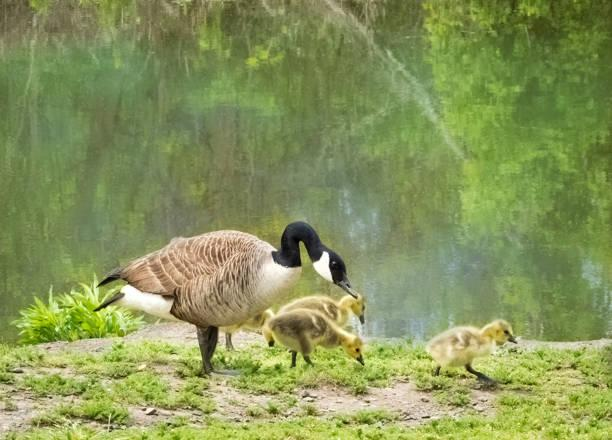Canadian-Goose: (98, 220, 354, 372), (422, 315, 474, 368)
